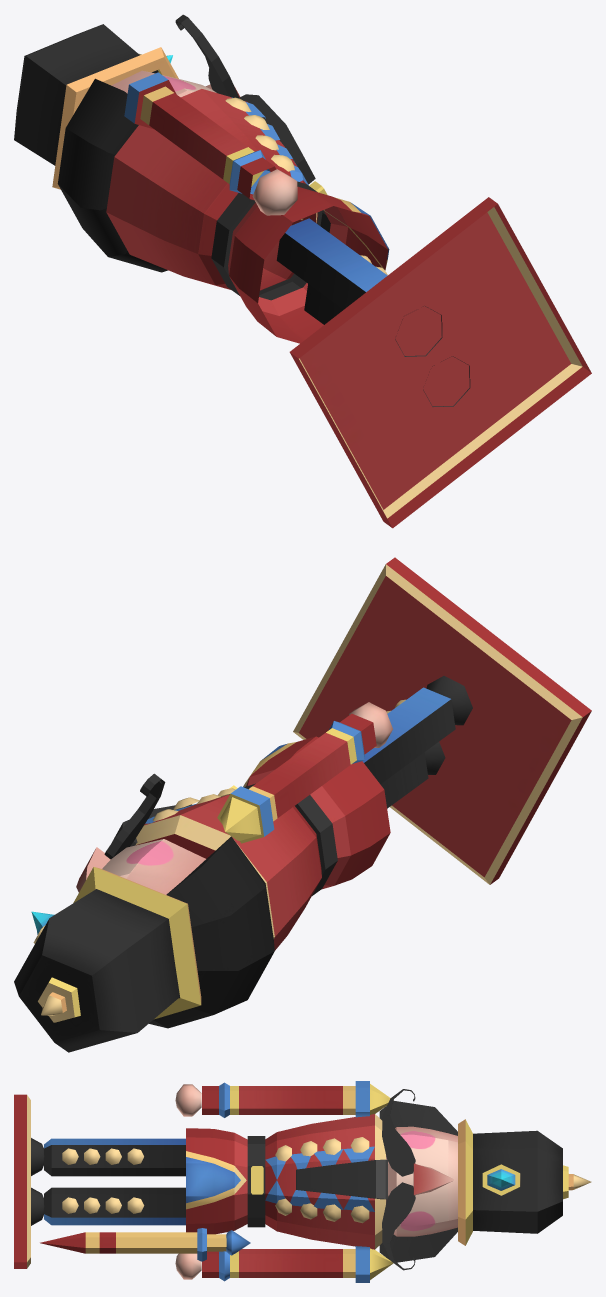
The model's file is Hutaojiazi_Red.FBX.
3 renders of one model, top to bottom at view 1: azimuth 30°, elevation 25°; view 2: azimuth 150°, elevation 25°; view 3: azimuth 270°, elevation 25°, orthographic. The views are drawn at different scales.
Parts seen in each view (by area): view 1: Object029; view 2: Object029; view 3: Object029.
Part boxes in pixels (x1=…): Object029: x1=14, y1=14, x2=591, y2=528; Object029: x1=14, y1=557, x2=591, y2=1052; Object029: x1=14, y1=1081, x2=591, y2=1282.
Bounding box in the file's own units: 7.54 × 7.35 × 18.3.
Materials: 1 (1 with a texture image).
